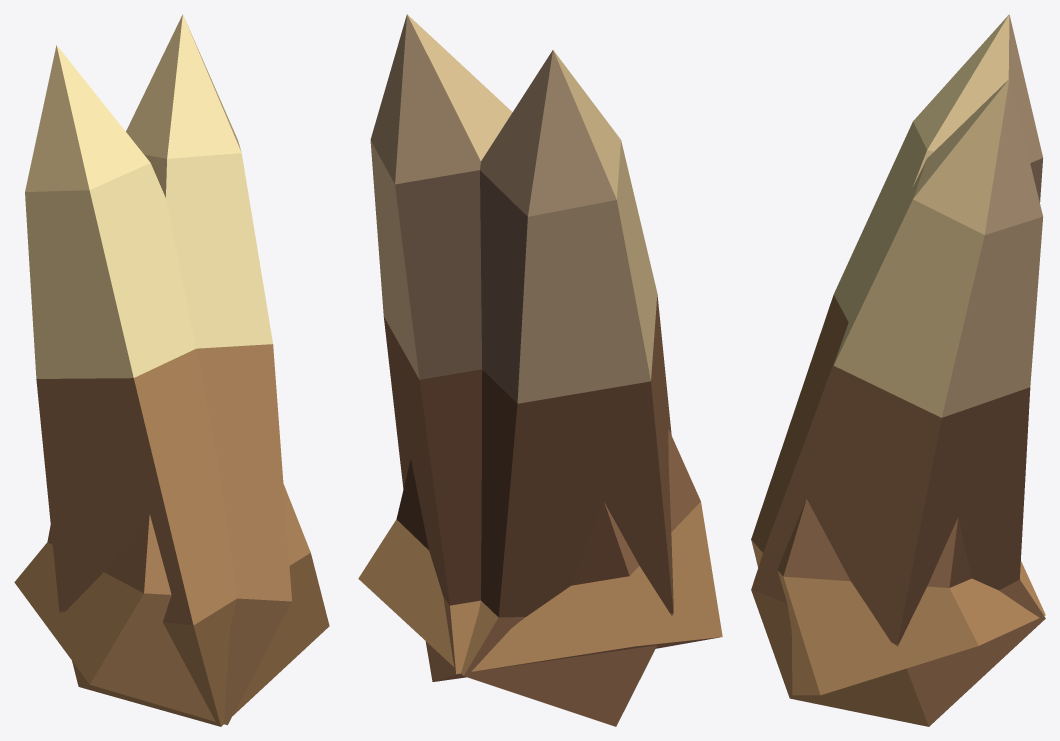
File: horns_tf_short.glb
3 renders of one model, left to right at view 1: azimuth 30°, elevation 25°; view 2: azimuth 150°, elevation 25°; view 3: azimuth 270°, elevation 25°, orthographic. The views are drawn at different scales.
Visible parts, largest first — view 1: Horn_R, Horn_L; view 2: Horn_R, Horn_L; view 3: Horn_L, Horn_R.
Part boxes in pixels (<box>): Horn_R: <box>25,45,329,726</box>; Horn_L: <box>14,14,291,725</box>; Horn_R: <box>358,50,673,726</box>; Horn_L: <box>370,14,722,681</box>; Horn_L: <box>751,79,1045,726</box>; Horn_R: <box>751,14,1045,695</box>.
Size of the model in its own units: 0.0245 by 0.0605 by 0.0248.
1 material, 1 textured.
